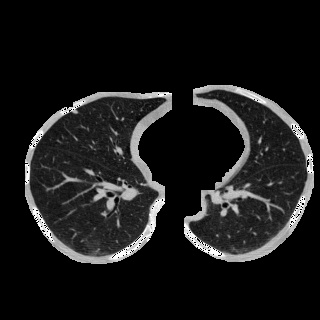PN: (73, 110, 77, 114)
